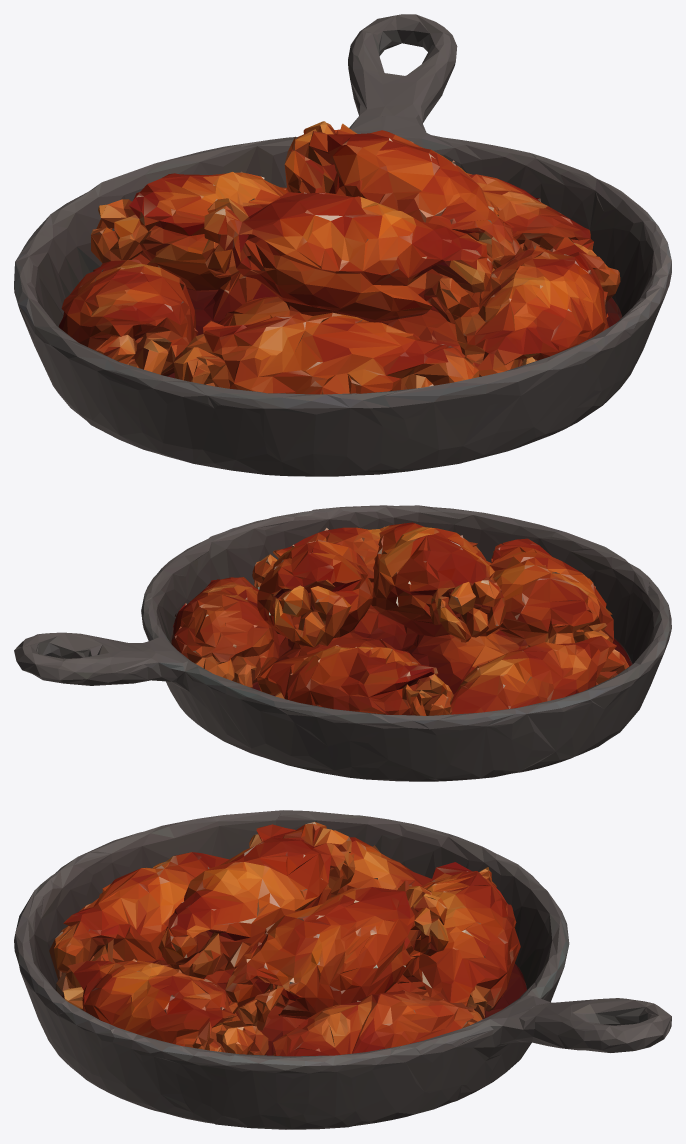
The model's file is wings_cola.glb.
The picture shows the model from 3 angles, top to bottom: view 1: azimuth 30°, elevation 25°; view 2: azimuth 150°, elevation 25°; view 3: azimuth 270°, elevation 25°; orthographic projection. The views are drawn at different scales.
Visible parts, largest first — view 1: geometry_0; view 2: geometry_0; view 3: geometry_0.
Boxes of the visible parts, x1,y1,x2,y2 form: geometry_0: (14, 14, 671, 476); geometry_0: (14, 505, 671, 781); geometry_0: (14, 810, 671, 1129).
Size of the model in its own units: 0.2566 by 0.0743 by 0.28.
1 material, 1 textured.
